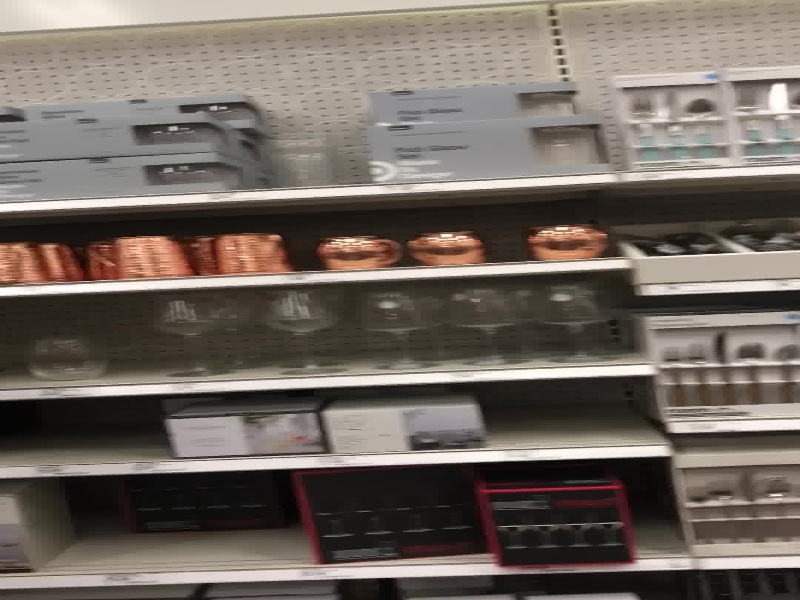void: (51, 472, 291, 571), (482, 372, 651, 450), (1, 395, 166, 469)
